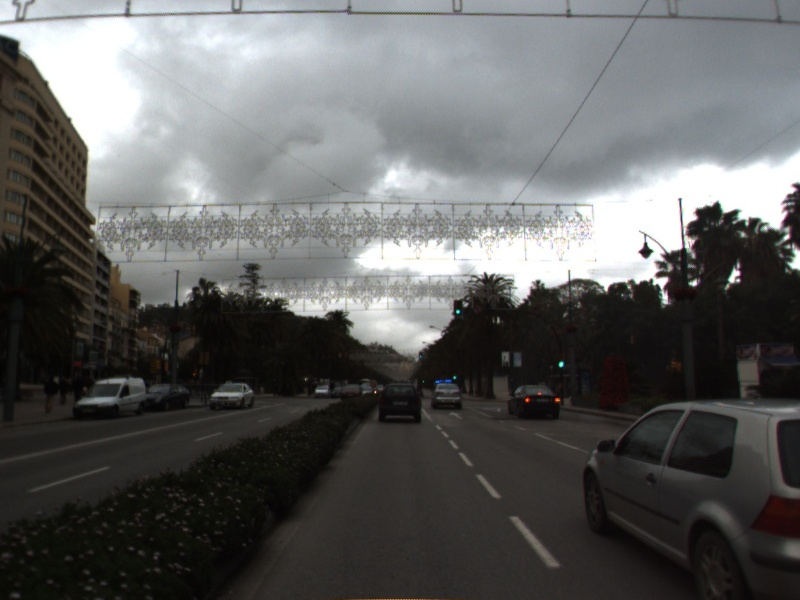STRAIGHT: (446, 409, 465, 422)
